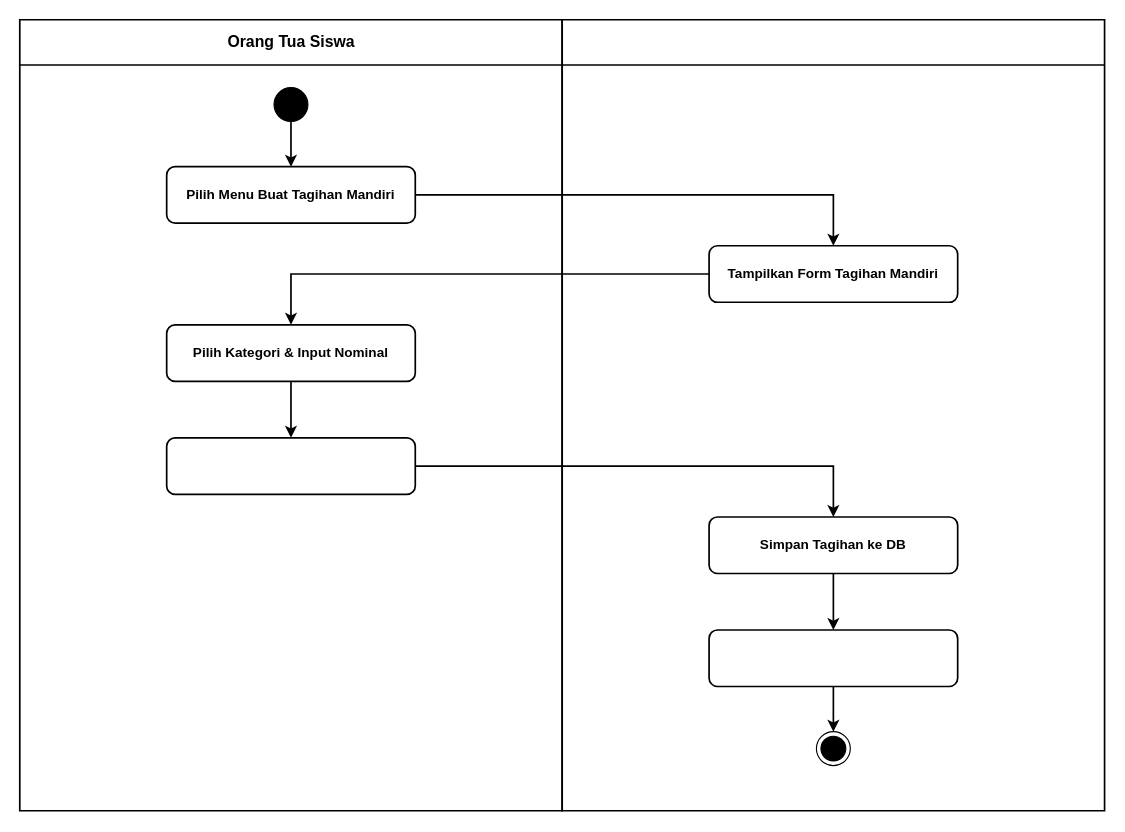
The diagram is 1125 pixels wide and 832 high, and some of its shapes have lost their labels. Here are the shapes that lost their labels. From the top down, the box of each, then its label:
(561, 18, 1105, 811): Sistem
(165, 437, 416, 495): Klik Buat Tagihan
(708, 629, 958, 687): Tampilkan Detail Tagihan Baru
